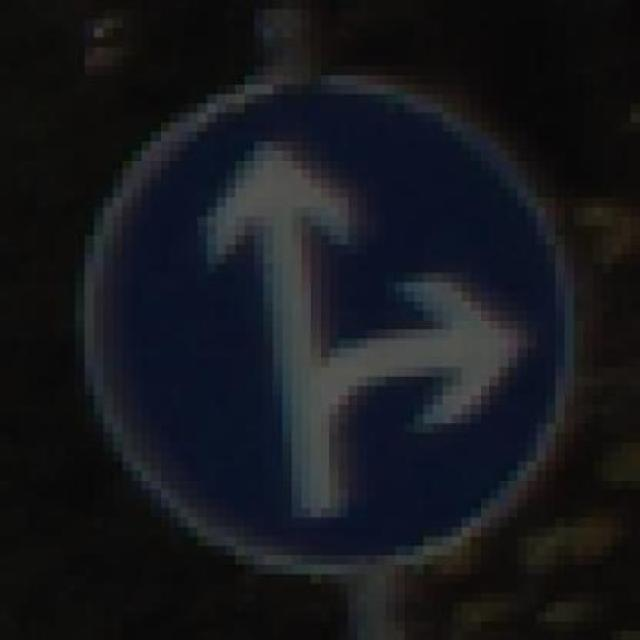Go Straight or Turn Right: (56, 66, 584, 583)
